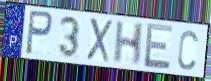3: (58, 15, 82, 59)
C: (176, 28, 199, 72)
E: (143, 21, 174, 71)
H: (112, 20, 146, 67)
P: (24, 9, 54, 57)
X: (85, 16, 114, 64)
